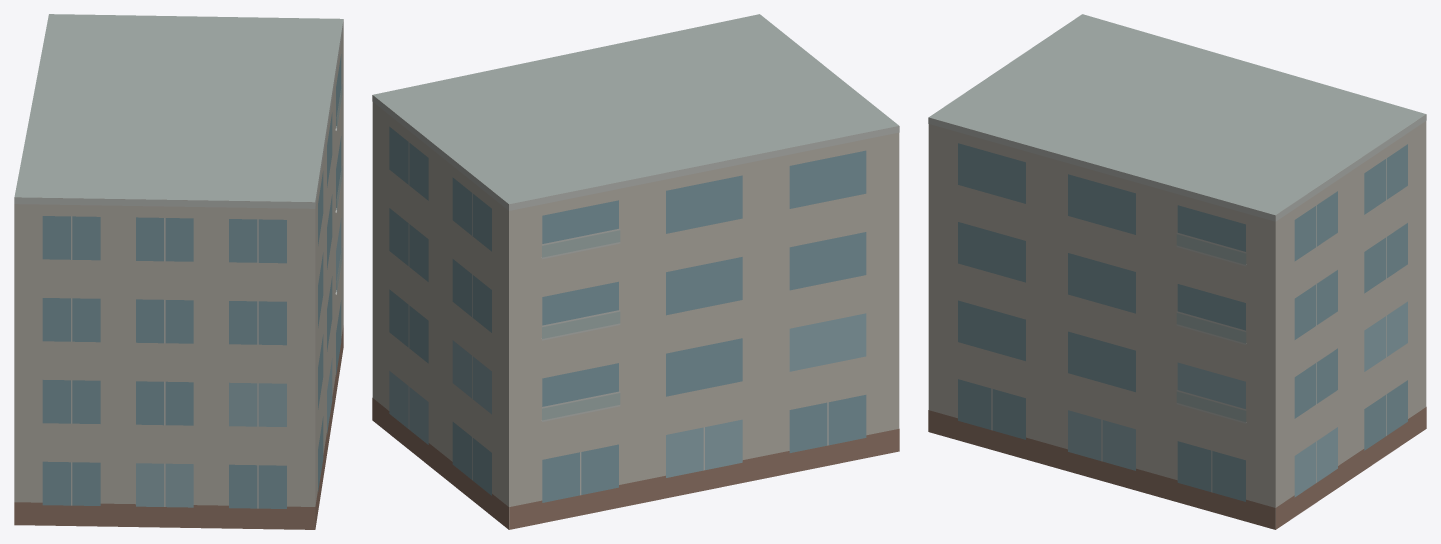
File: survey-upis-32942945.glb
3 views of the same model, side by side, from view 1: azimuth 30°, elevation 25°; view 2: azimuth 150°, elevation 25°; view 3: azimuth 270°, elevation 25° (orthographic). The views are drawn at different scales.
Parts seen in each view (by area): view 1: survey-upis-32942945.tmp; view 2: survey-upis-32942945.tmp; view 3: survey-upis-32942945.tmp.
Part boxes in pixels (x1,y1,x2,y2): survey-upis-32942945.tmp: (14, 14, 343, 529); survey-upis-32942945.tmp: (372, 14, 899, 529); survey-upis-32942945.tmp: (928, 14, 1426, 529).
Bounding box in the file's own units: 16.27 × 11.85 × 17.01.
